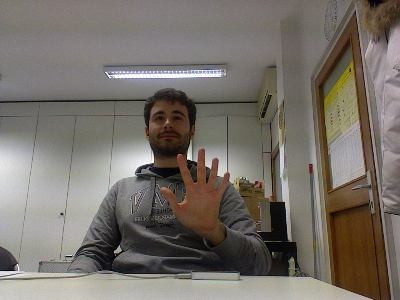布: (158, 147, 231, 235)
